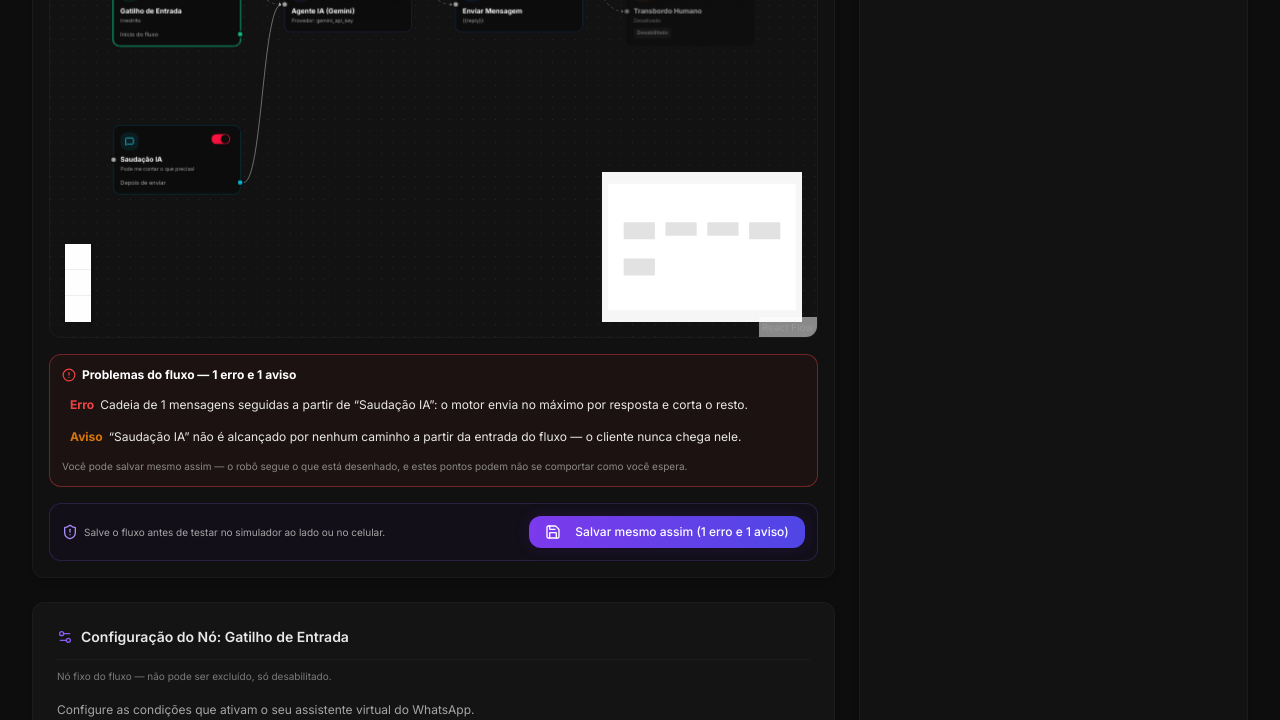
Test case: R9 · dica de aviso no inspector da mensagem (G29 — nunca prometer palavra que não existe) › nó ai de destino COM palavra: oferece acrescentar; o botão acrescenta a frase UMA vez e some
(page scrolled)
Expected: the heading "Gatilho de Entrada" is shown, [120,7,182,15]
Click the element showing "Saudação IA Pode me contar o que precisa! Depois de enviar" at [177, 160], box [113,125,241,195]
(page scrolled)
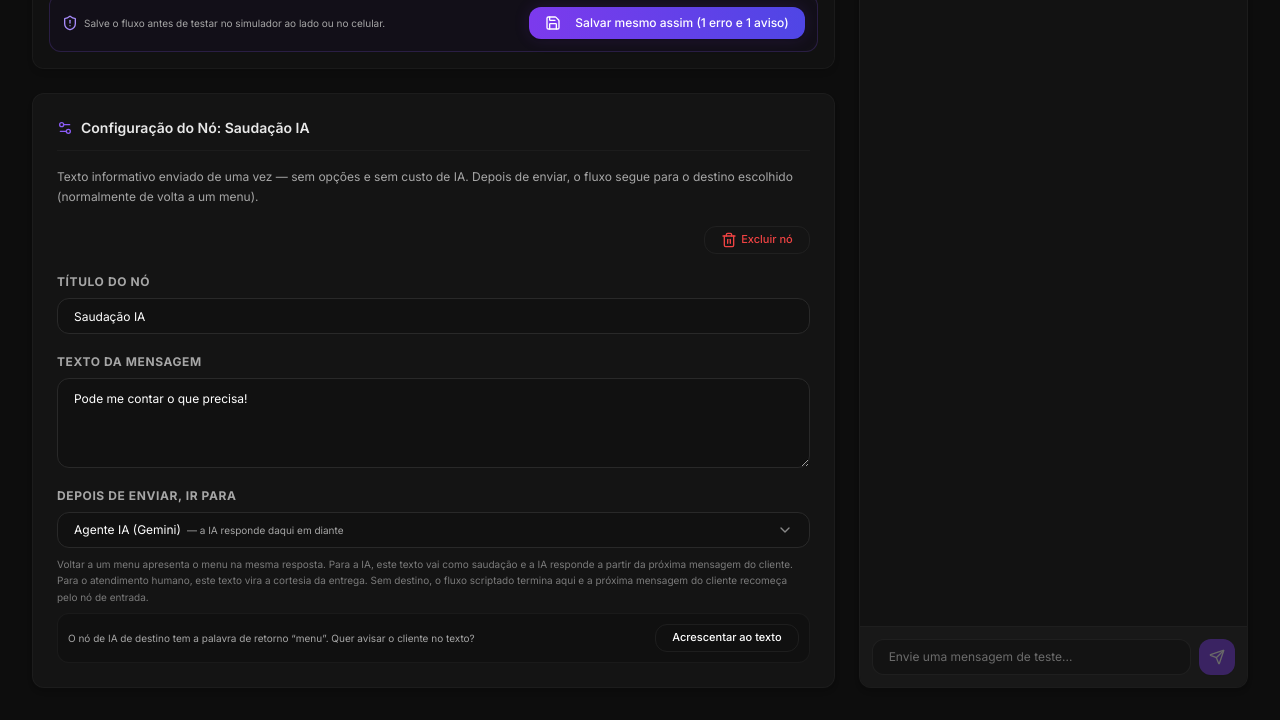
Result: the text "tem a palavra de retorno “menu”" is shown at [68,632,475,644]
Click the button "Acrescentar ao texto" at [727, 638], box [655,624,799,652]
(page scrolled)
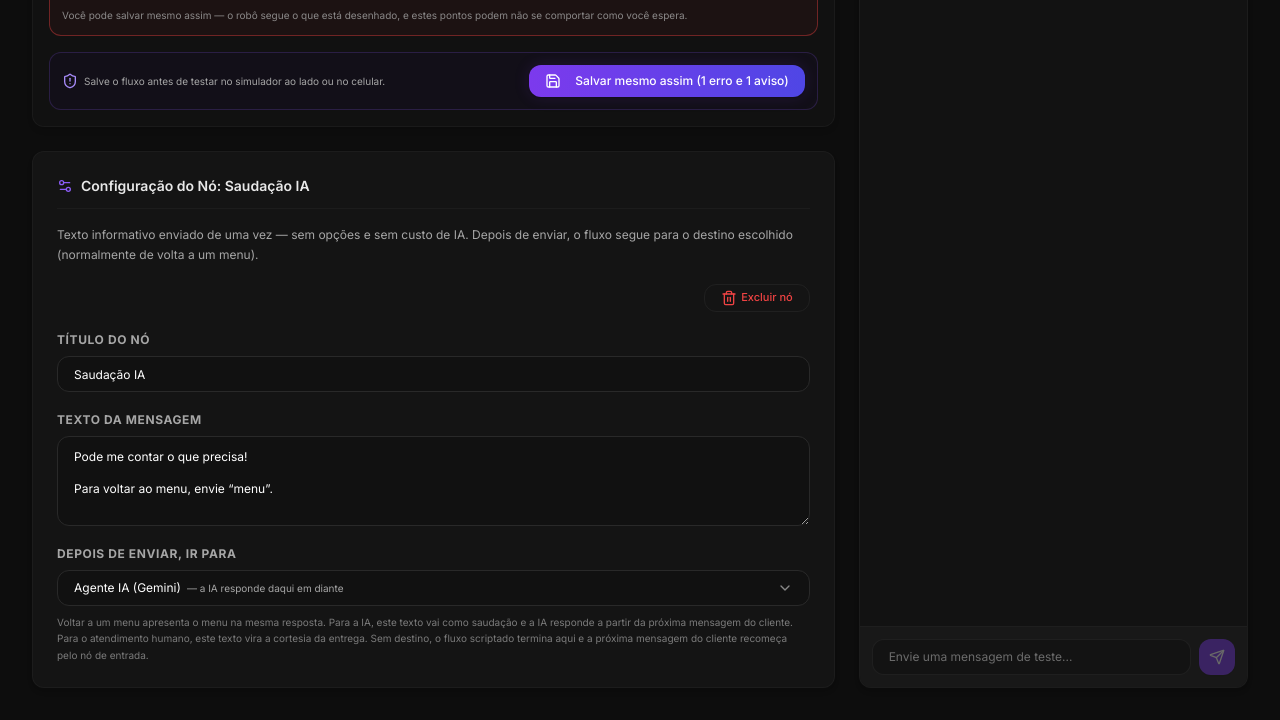
Result: the button "Acrescentar ao texto" is gone
